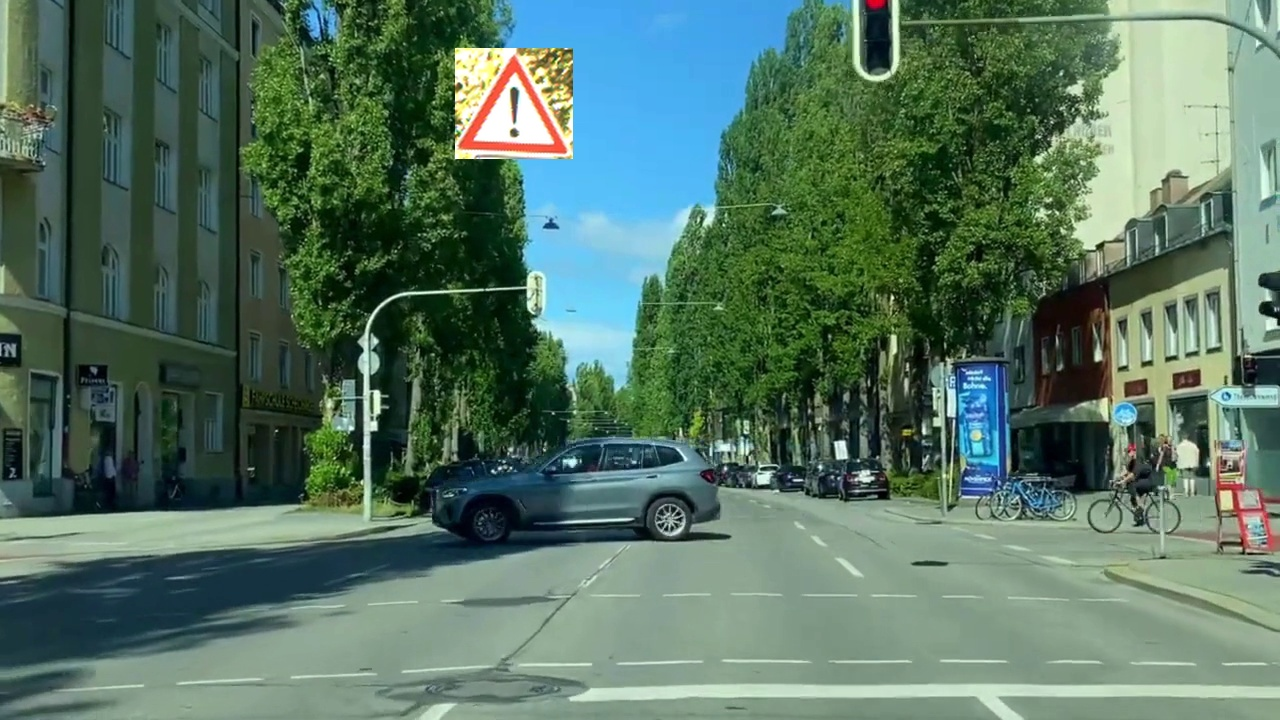Caution: (455, 48, 573, 159)
